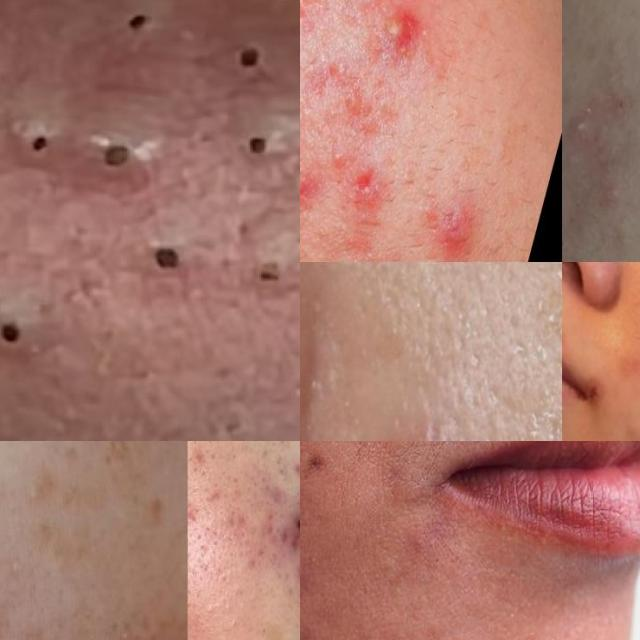acne_scars: (300, 33, 400, 149), (300, 0, 329, 52)
comedone: (590, 164, 640, 222), (316, 124, 362, 184), (143, 233, 185, 278), (116, 8, 162, 47), (227, 127, 276, 163), (227, 35, 268, 76), (13, 129, 55, 168), (0, 311, 37, 354), (564, 100, 600, 144), (562, 0, 623, 22), (562, 140, 592, 179), (98, 142, 132, 174), (562, 31, 578, 81)
papule: (362, 369, 490, 441), (406, 183, 496, 262)
pustule: (373, 0, 428, 68)
